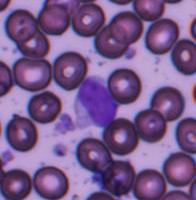L: (74, 74, 120, 127)
